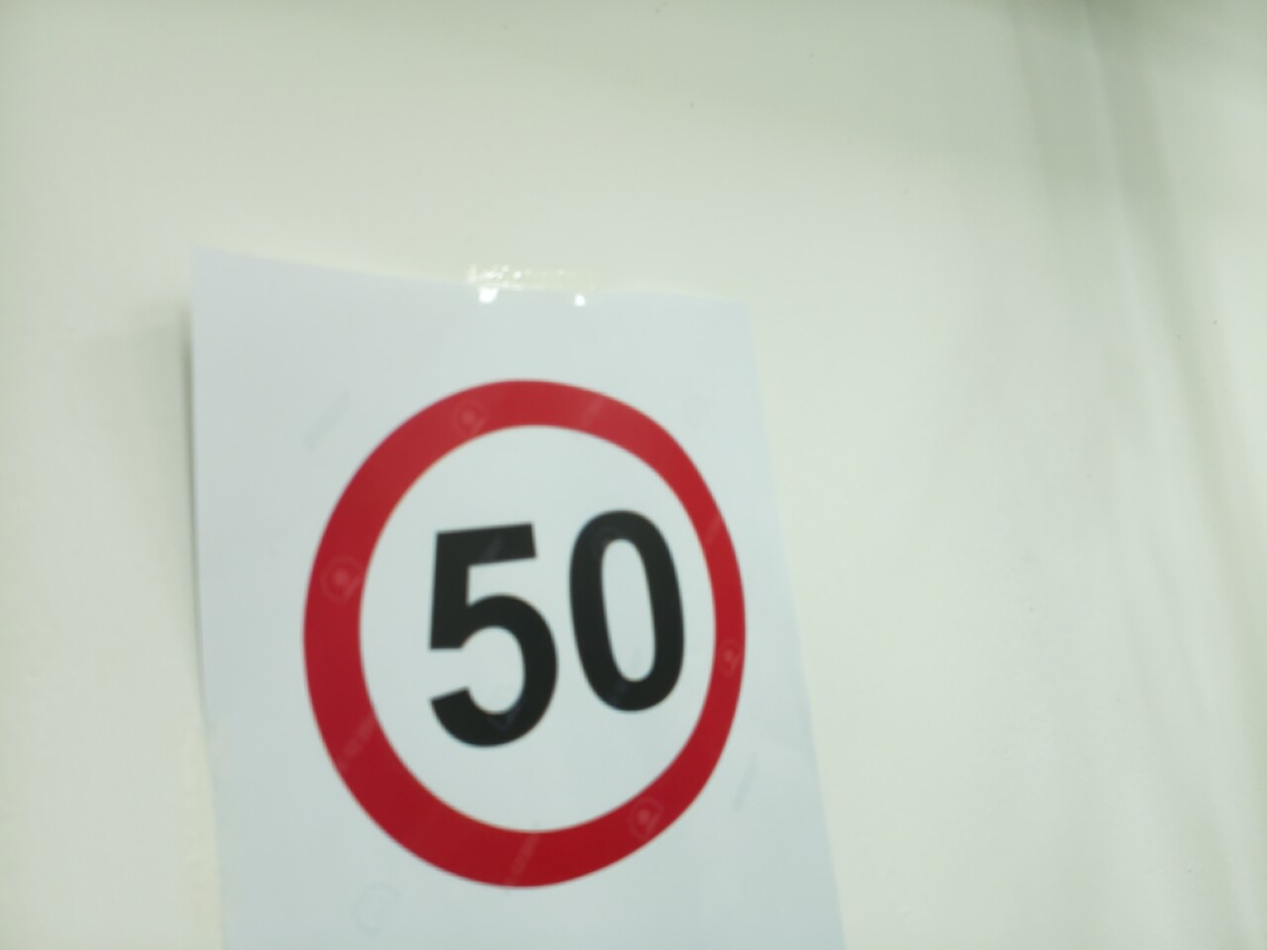speed_50: (290, 366, 758, 902)
